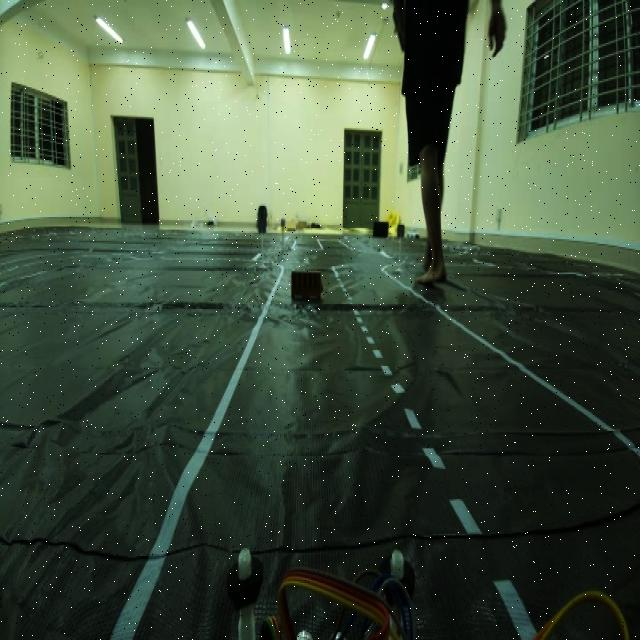roadblock: (285, 259, 327, 308)
